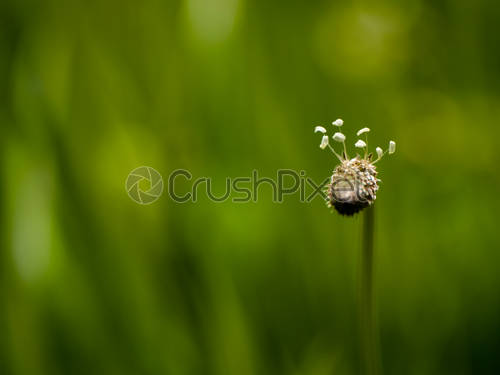buckhorn plantain: (300, 111, 386, 228)
